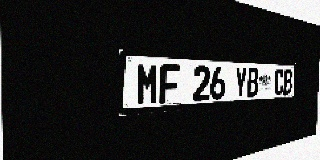2: (193, 65, 210, 101)
6: (210, 66, 225, 100)
B: (247, 68, 259, 97), (283, 69, 292, 95)
C: (274, 69, 284, 95)
F: (159, 64, 180, 104)
M: (136, 63, 159, 106)
Y: (234, 67, 247, 98)
